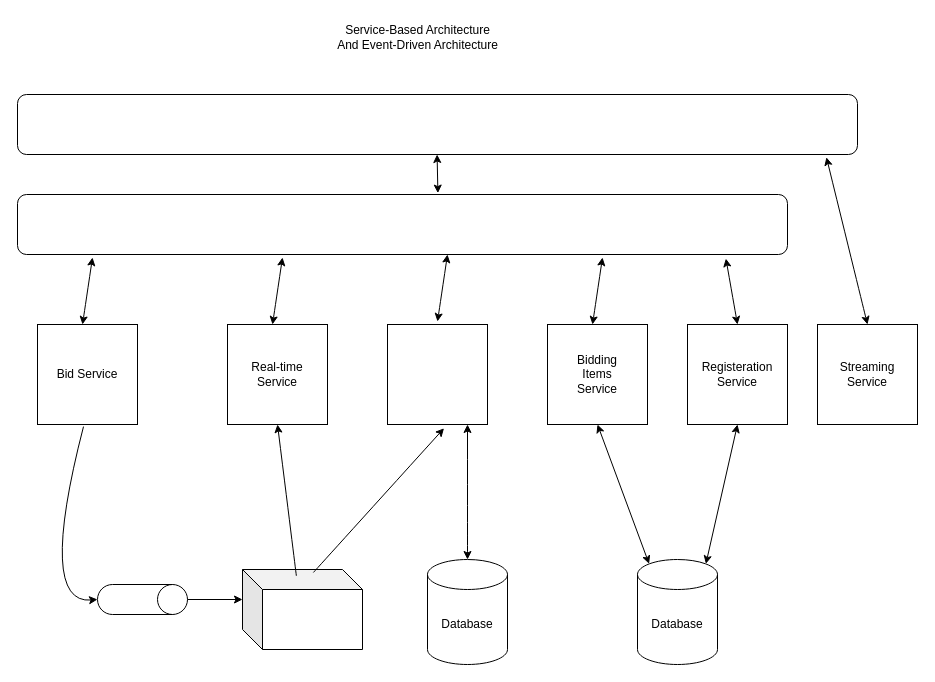
Image size: 935x682. Some labels were removed from this diagram. The shapes that lost their labels are listed below. From the top down, each one's box as (x1, y1, x2, y2) in pixels, then its label:
(16, 94, 858, 154): UI
(16, 194, 788, 254): API Gateway
(386, 324, 488, 424): Auction Service
(242, 568, 362, 650): Message Broker
